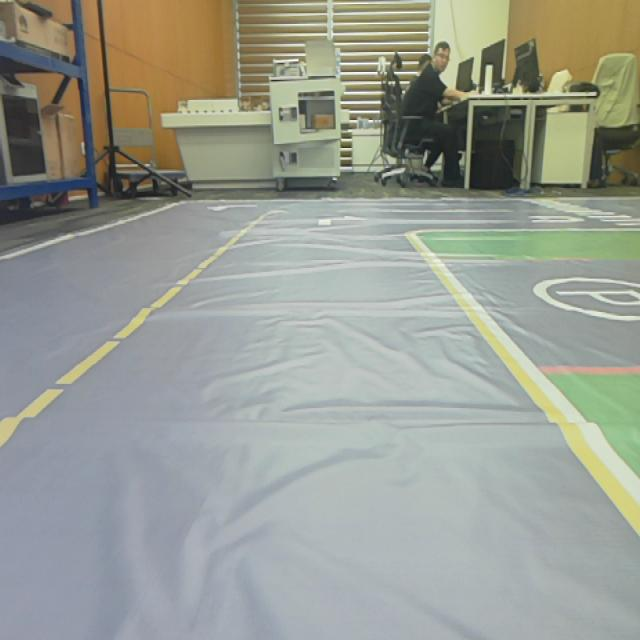left_lane: (0, 213, 268, 446)
right_lane: (405, 235, 640, 537)
